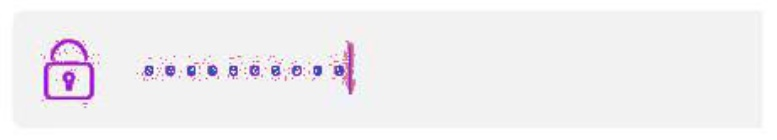EditText: (1, 1, 776, 139)
